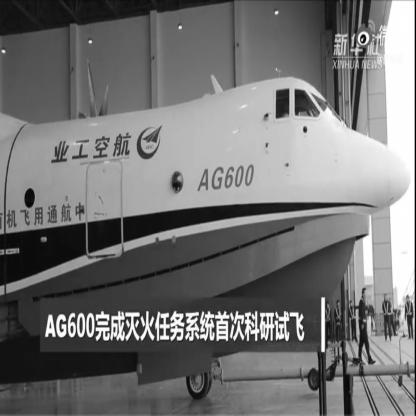AG600: (1, 58, 412, 400)
